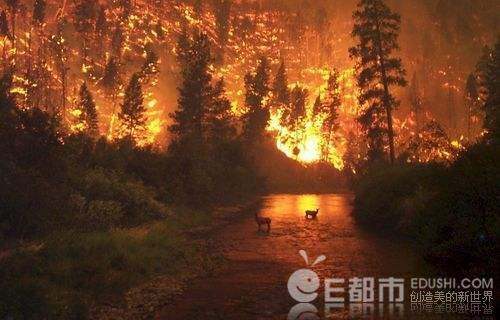fire: (274, 69, 354, 168), (105, 84, 170, 145)
smoke: (18, 6, 231, 83), (393, 11, 476, 152), (233, 7, 366, 69)
